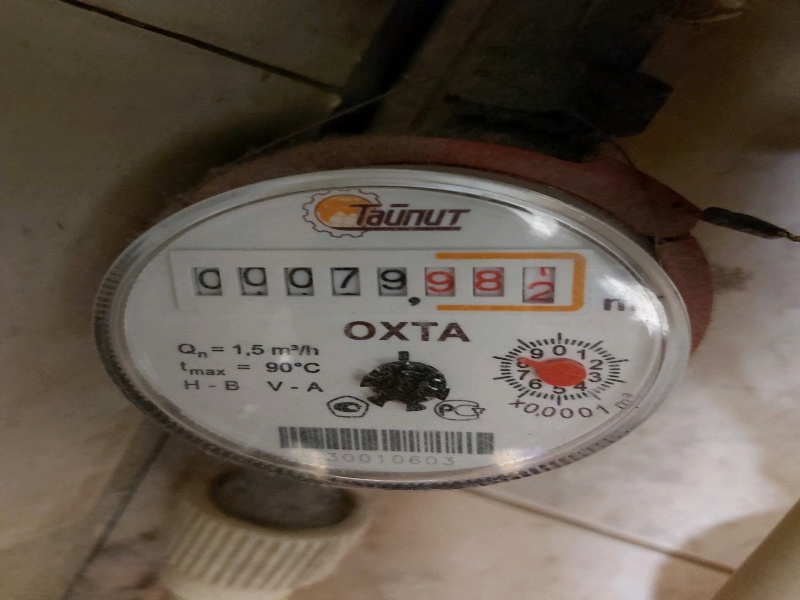meter: (174, 253, 580, 310)
